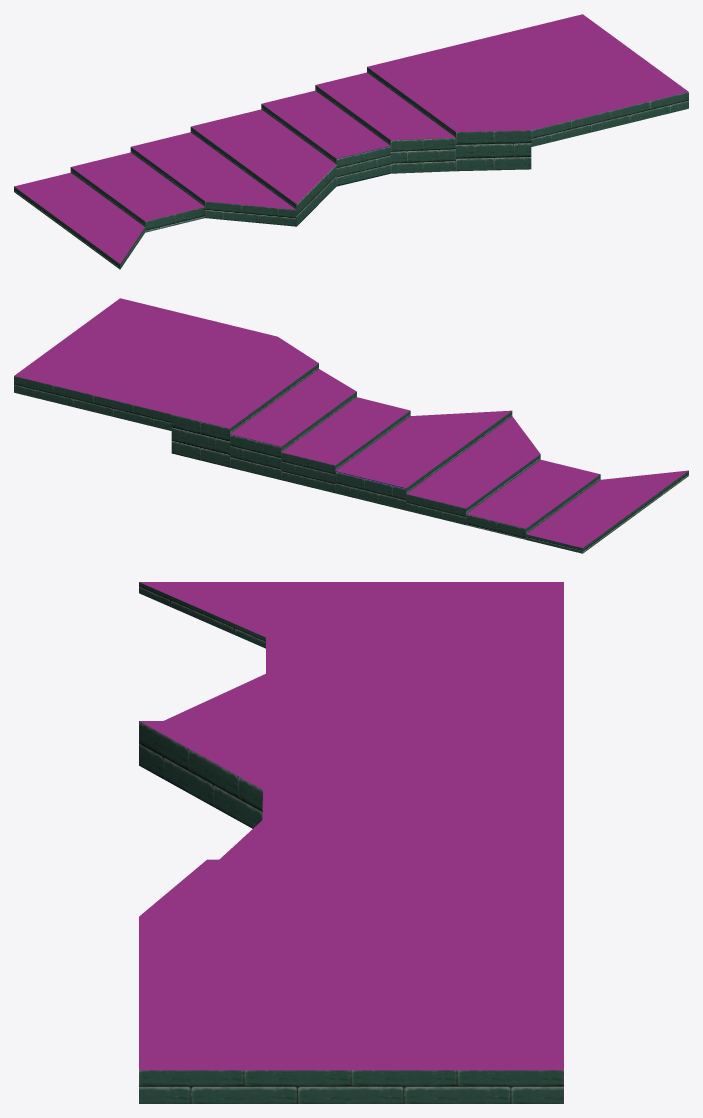
File: scala hover.fbx
3 views of the same model, one above another, from view 1: azimuth 30°, elevation 25°; view 2: azimuth 150°, elevation 25°; view 3: azimuth 270°, elevation 25° (orthographic). The views are drawn at different scales.
Parts seen in each view (by area): view 1: scala1; view 2: scala1; view 3: scala1.
Part boxes in pixels (left/top/right/bottom): scala1: left=14, top=14, right=688, bottom=269; scala1: left=14, top=298, right=688, bottom=553; scala1: left=139, top=582, right=563, bottom=1103.
Bounding box in the file's own units: 4.75 × 0.3113 × 1.53.
1 material, 1 textured.
